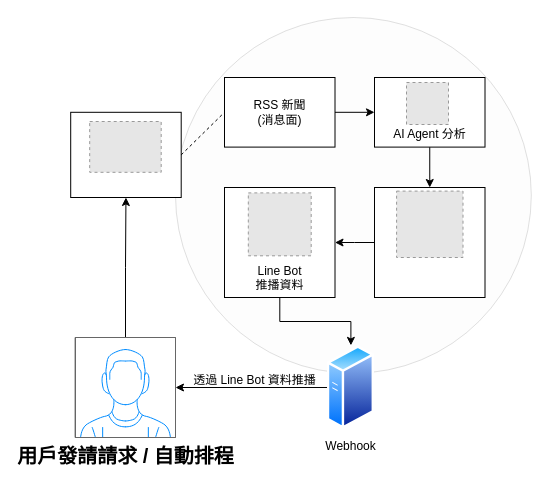
The diagram is 549 pixels wide and 486 high, and some of its shapes have lost their labels. Grey dashed boxes stand in for pictures. Each missing label, with the box of its shape:
Azure SQL Server (籌碼資料): (374, 186, 485, 298)
自動 化流程: (70, 111, 181, 198)
